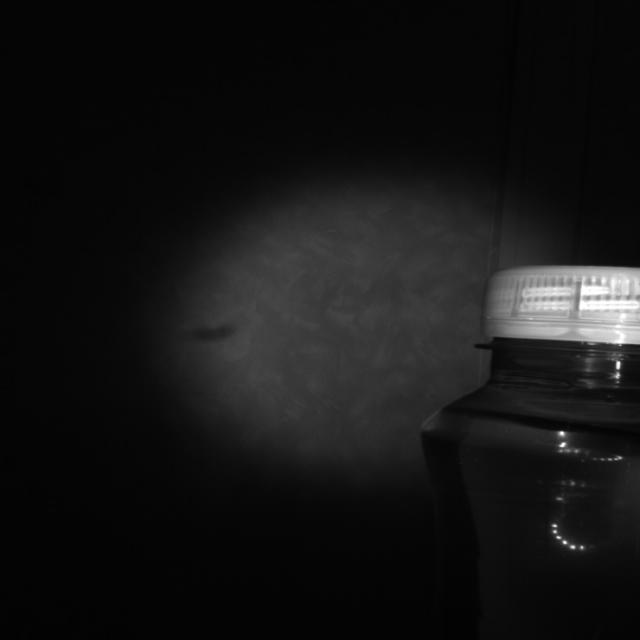Good: (480, 262, 640, 341)
